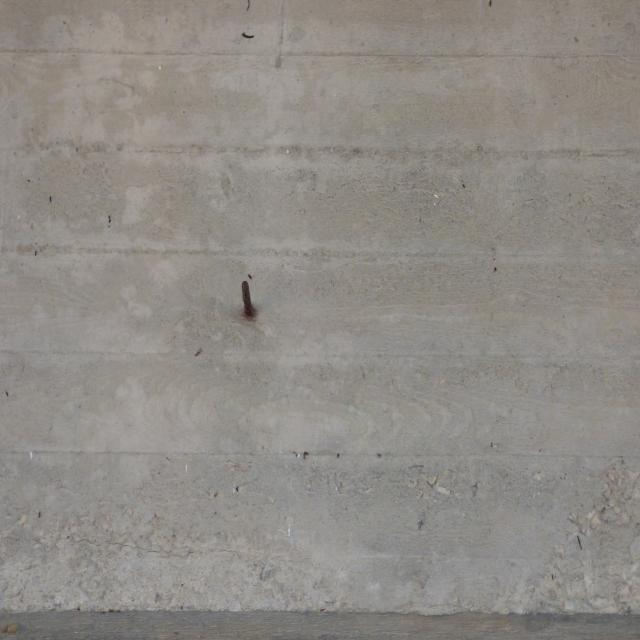corrosion: (232, 276, 267, 328)
